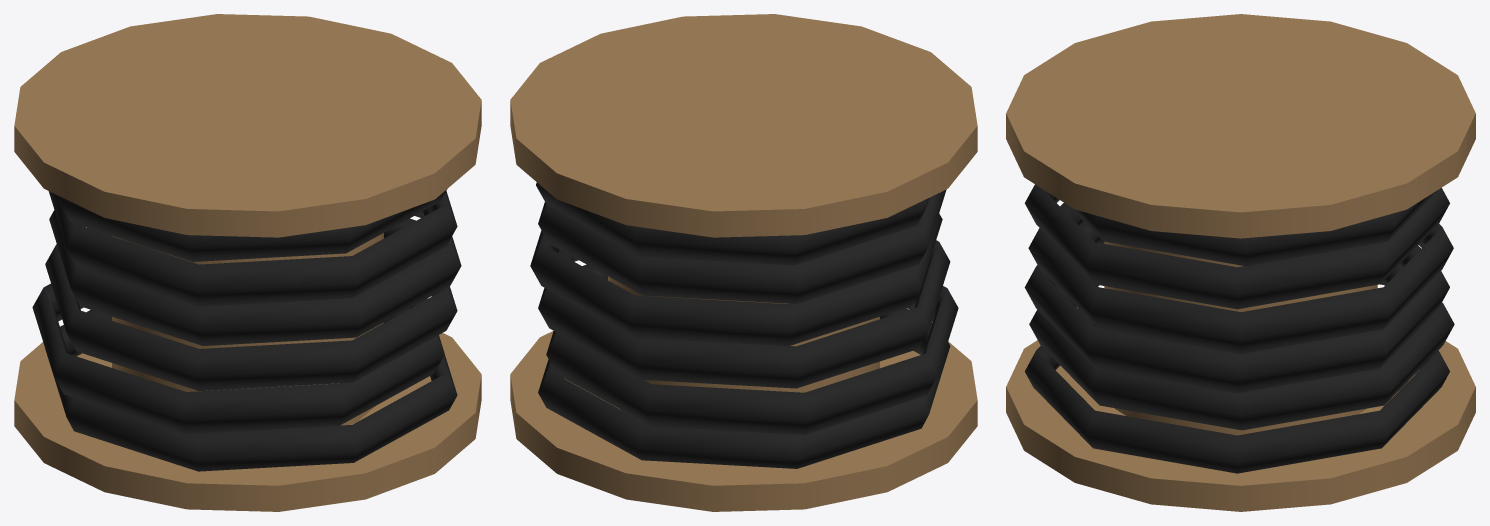
File: Carretel com Fio.fbx
3 renders of one model, left to right at view 1: azimuth 30°, elevation 25°; view 2: azimuth 150°, elevation 25°; view 3: azimuth 270°, elevation 25°, orthographic.
Visible parts, largest first — view 1: Cilindro.002, BézierCircle.001; view 2: Cilindro.002, BézierCircle.001; view 3: Cilindro.002, BézierCircle.001.
Part boxes in pixels (<box>): Cilindro.002: <box>14,14,481,511</box>; BézierCircle.001: <box>32,189,461,471</box>; Cilindro.002: <box>510,14,977,511</box>; BézierCircle.001: <box>530,182,958,468</box>; Cilindro.002: <box>1006,14,1475,511</box>; BézierCircle.001: <box>1024,184,1454,473</box>.
Bounding box in the file's own units: 268 × 188 × 268.
